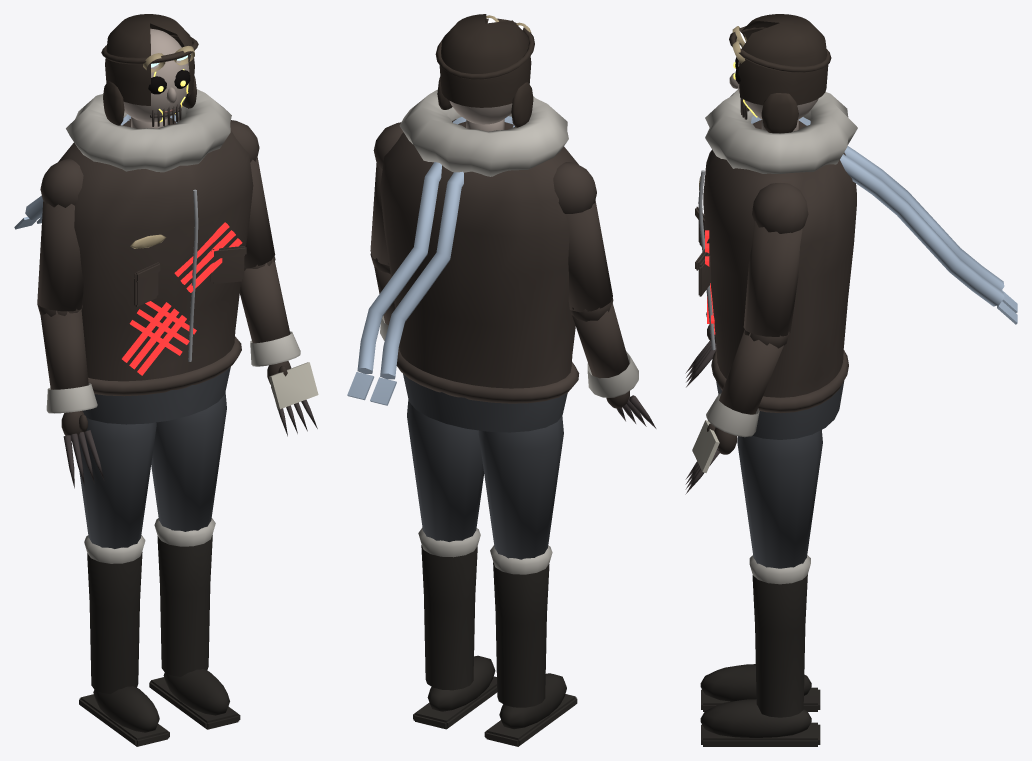
The model's file is aeronaut.glb.
3 views of the same model, side by side, from view 1: azimuth 30°, elevation 25°; view 2: azimuth 150°, elevation 25°; view 3: azimuth 270°, elevation 25° (orthographic). The views are drawn at different scales.
Visible parts, largest first — view 1: Aeronaut_Root_FlightLeather, LegA_FlyingBoot, LegB_FlyingBoot, ArmA_FlightLeather, FleeceCollar, LegA_JodhpursSlate, LegB_JodhpursSlate, ArmB_FlightLeather, Head_CapLeather, Hips, Aeronaut_Root_HWound, Head_WindSkin (+8 smaller); view 2: Aeronaut_Root_FlightLeather, LegA_FlyingBoot, LegB_FlyingBoot, LegA_JodhpursSlate, ArmA_FlightLeather, Head_CapLeather, FleeceCollar, Tail_SkySilk, LegB_JodhpursSlate, Hips, ArmB_FlightLeather, Head_WindSkin (+3 smaller); view 3: Aeronaut_Root_FlightLeather, LegB_FlyingBoot, ArmB_FlightLeather, LegB_JodhpursSlate, Head_CapLeather, FleeceCollar, Tail_SkySilk, LegA_FlyingBoot, Hips, CuffArmB, BootFleeceLegB, Map (+2 smaller).
Part boxes in pixels (<box>): Aeronaut_Root_FlightLeather: <box>58,117,253,396</box>; LegA_FlyingBoot: <box>79,552,169,746</box>; LegB_FlyingBoot: <box>149,535,240,729</box>; ArmA_FlightLeather: <box>37,159,88,389</box>; FleeceCollar: <box>66,89,231,172</box>; LegA_JodhpursSlate: <box>78,418,156,548</box>; LegB_JodhpursSlate: <box>151,392,226,531</box>; ArmB_FlightLeather: <box>230,120,290,343</box>; Head_CapLeather: <box>101,14,198,125</box>; Hips: <box>82,367,230,424</box>; Aeronaut_Root_HWound: <box>122,222,242,375</box>; Head_WindSkin: <box>123,28,189,128</box>; Aeronaut_Root_FlightLeather: <box>380,119,579,403</box>; LegA_FlyingBoot: <box>484,562,577,746</box>; LegB_FlyingBoot: <box>413,545,497,729</box>; LegA_JodhpursSlate: <box>478,416,563,559</box>; ArmA_FlightLeather: <box>553,162,629,378</box>; Head_CapLeather: <box>435,14,534,127</box>; FleeceCollar: <box>399,89,568,176</box>; Tail_SkySilk: <box>347,162,463,405</box>; LegB_JodhpursSlate: <box>407,399,484,541</box>; Hips: <box>403,374,567,432</box>; ArmB_FlightLeather: <box>370,122,403,325</box>; Head_WindSkin: <box>449,101,512,131</box>; Aeronaut_Root_FlightLeather: <box>695,120,856,413</box>; LegB_FlyingBoot: <box>700,574,820,746</box>; ArmB_FlightLeather: <box>719,183,808,414</box>; LegB_JodhpursSlate: <box>737,430,822,568</box>; Head_CapLeather: <box>729,14,831,133</box>; FleeceCollar: <box>705,89,857,173</box>; Tail_SkySilk: <box>840,146,1017,324</box>; LegA_FlyingBoot: <box>700,664,820,711</box>; Hips: <box>716,381,844,439</box>; CuffArmB: <box>706,393,759,437</box>; BootFleeceLegB: <box>749,555,810,584</box>; Map: <box>692,420,719,472</box>.
Bounding box in the file's own units: 0.688 × 1.77 × 0.7608.
